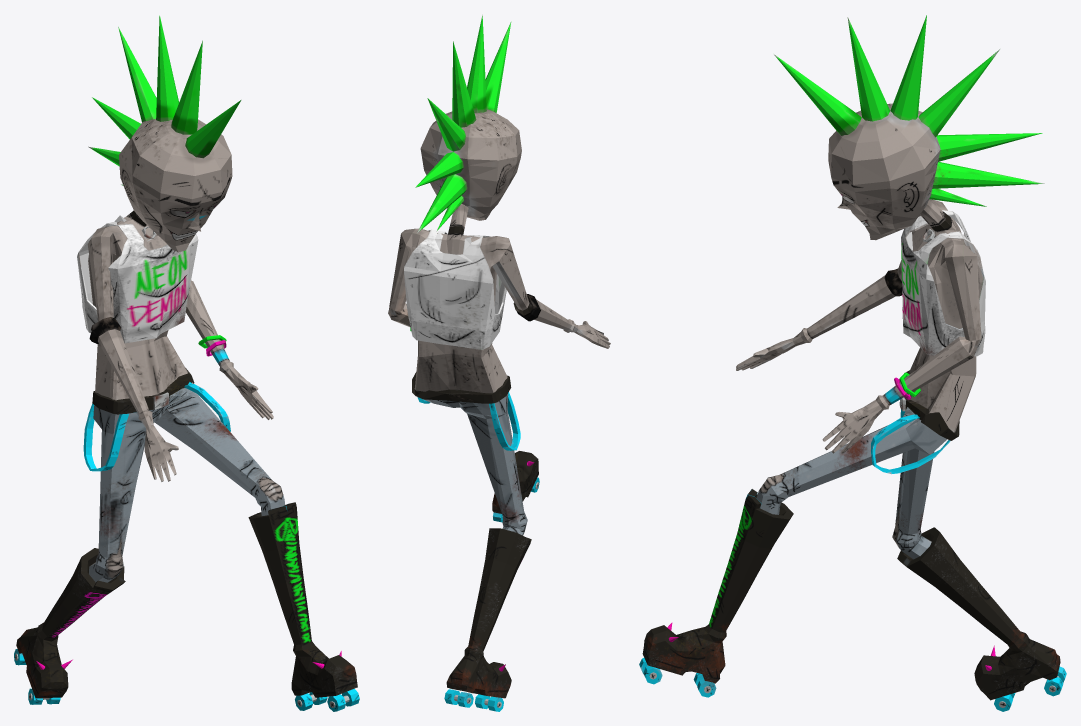
The model's file is punkAnimation_000004.obj.
3 views of the same model, side by side, from view 1: azimuth 30°, elevation 25°; view 2: azimuth 150°, elevation 25°; view 3: azimuth 270°, elevation 25° (orthographic). The views are drawn at different scales.
Parts seen in each view (by area): view 1: Cube.004_Cube.003; view 2: Cube.004_Cube.003; view 3: Cube.004_Cube.003.
Boxes of the visible parts, x1,y1,x2,y2 form: Cube.004_Cube.003: [14, 15, 359, 711]; Cube.004_Cube.003: [388, 15, 610, 711]; Cube.004_Cube.003: [639, 15, 1066, 711].
Bounding box in the file's own units: 1.7 × 7.21 × 3.81.
